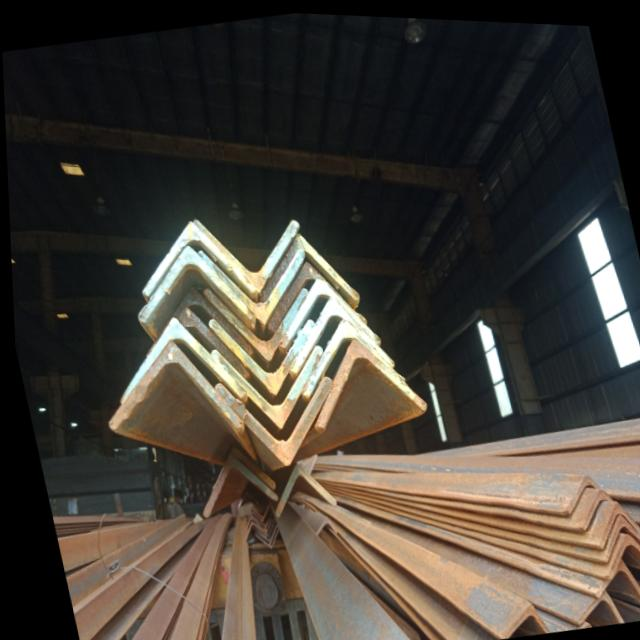metal-angles: (105, 339, 238, 428), (116, 315, 241, 403), (211, 372, 328, 463), (313, 334, 423, 429), (208, 341, 320, 426), (135, 243, 252, 321), (138, 218, 253, 296), (195, 246, 303, 323), (286, 294, 391, 372), (191, 216, 297, 292), (206, 315, 311, 391), (298, 317, 403, 393), (200, 284, 306, 359), (276, 274, 377, 345), (263, 259, 364, 328), (256, 230, 356, 298), (198, 452, 273, 516), (270, 460, 332, 514), (590, 554, 640, 598), (595, 495, 640, 543), (599, 509, 640, 557), (496, 598, 545, 634), (601, 528, 640, 572), (571, 585, 620, 619), (311, 513, 332, 532)
